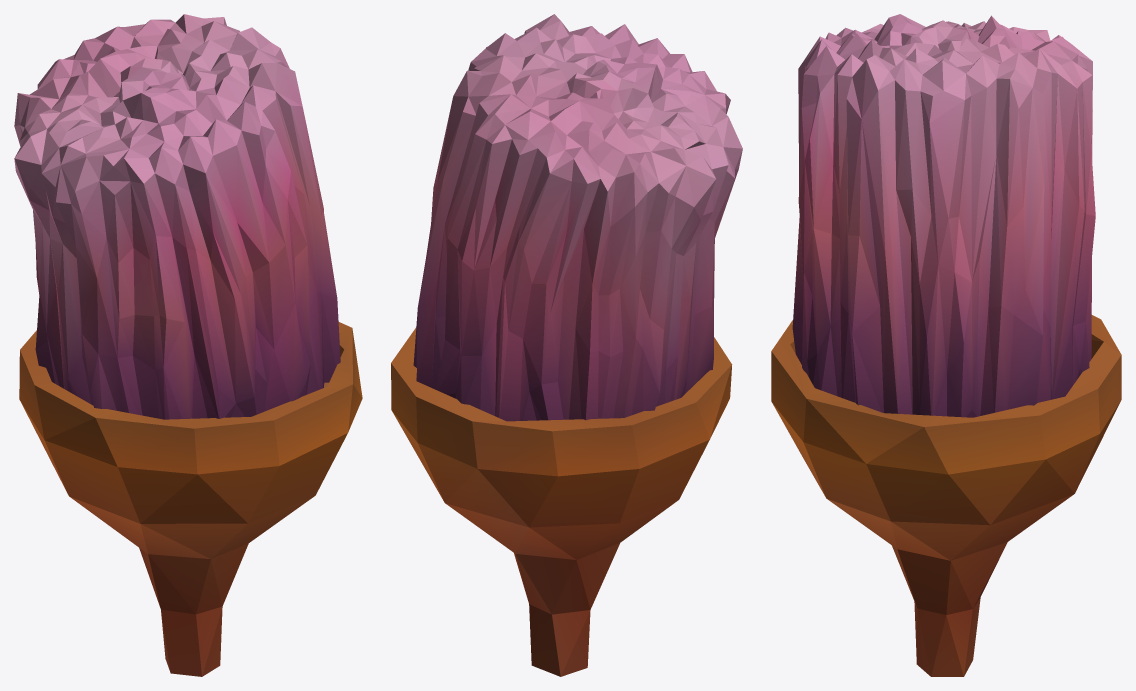
The model's file is anemone.gltf.
3 views of the same model, side by side, from view 1: azimuth 30°, elevation 25°; view 2: azimuth 150°, elevation 25°; view 3: azimuth 270°, elevation 25° (orthographic). The views are drawn at different scales.
Parts seen in each view (by area): view 1: Object_17, Cylinder_Material.001_0; view 2: Object_17, Cylinder_Material.001_0; view 3: Object_17, Cylinder_Material.001_0.
Boxes of the visible parts, bbox=[...] form: Object_17: bbox=[14, 14, 340, 419]; Cylinder_Material.001_0: bbox=[19, 322, 362, 676]; Object_17: bbox=[413, 14, 742, 421]; Cylinder_Material.001_0: bbox=[391, 327, 732, 676]; Object_17: bbox=[792, 14, 1095, 417]; Cylinder_Material.001_0: bbox=[771, 315, 1121, 676].
Size of the model in its own units: 0.5313 by 1 by 0.4999.
